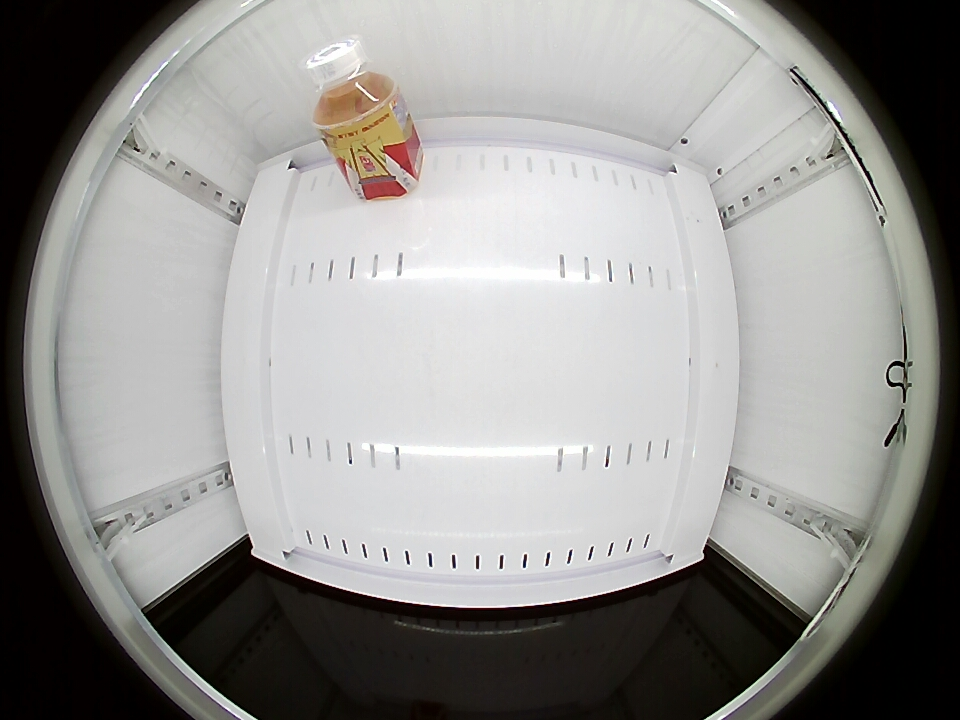dongpeng-b: (305, 36, 401, 134)
